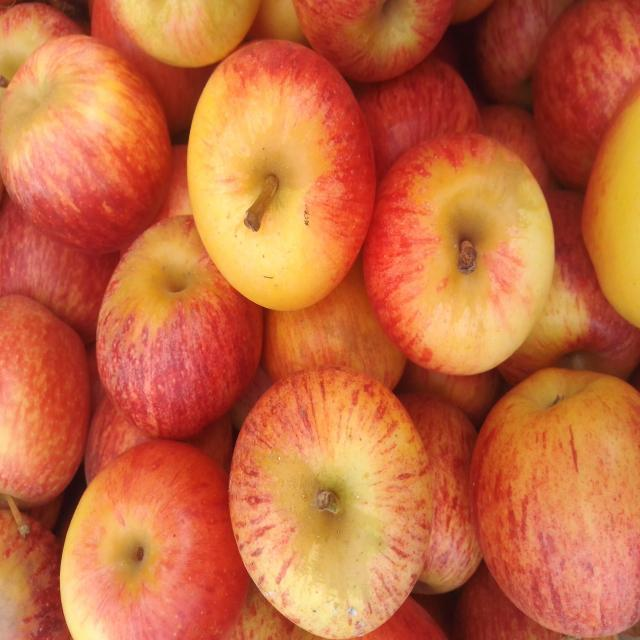Fresh Apple: (238, 378, 430, 640), (192, 45, 375, 318), (465, 371, 640, 640), (378, 140, 558, 383), (100, 225, 262, 458), (56, 446, 240, 640), (0, 52, 165, 243)
